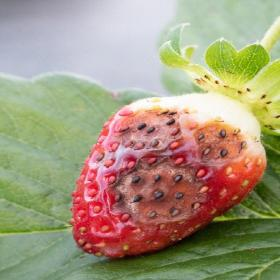Anthracnose Fruit Rot: (91, 106, 252, 233)
